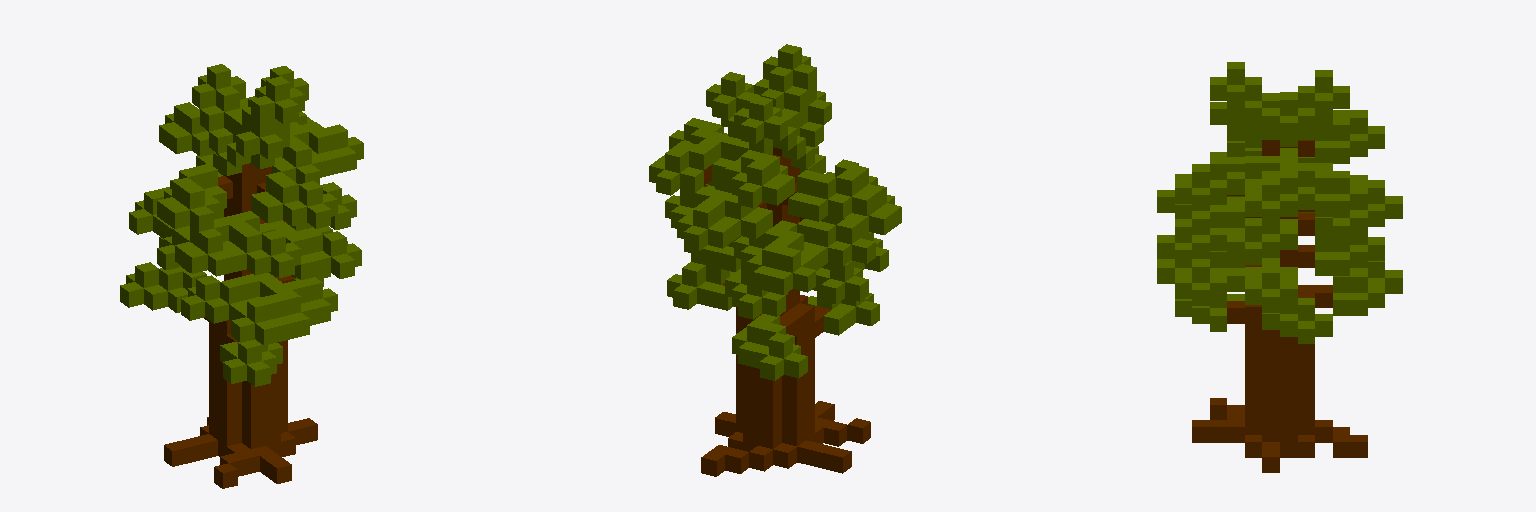
The picture shows the model from 3 angles: view 1: azimuth 30°, elevation 25°; view 2: azimuth 150°, elevation 25°; view 3: azimuth 270°, elevation 25°; orthographic projection.
Bounding box in the file's own units: 13 × 24 × 14.
Materials: 1 (1 with a texture image).